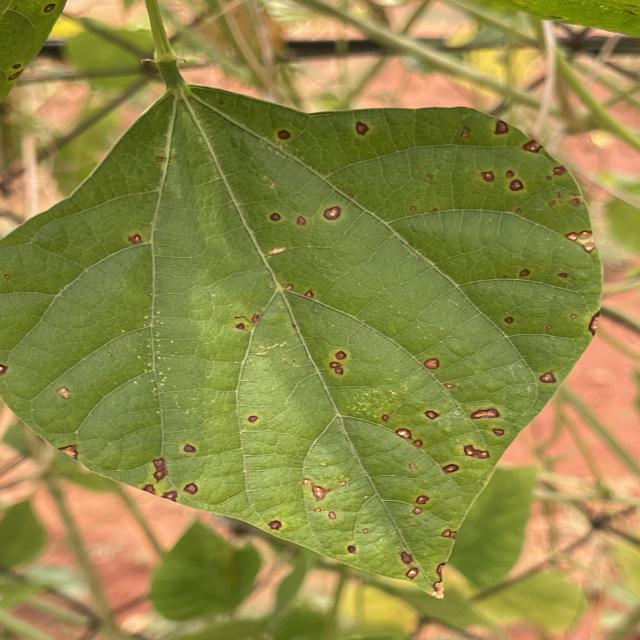Dolicos bean_cercospora leaf spot: (0, 78, 600, 599)
